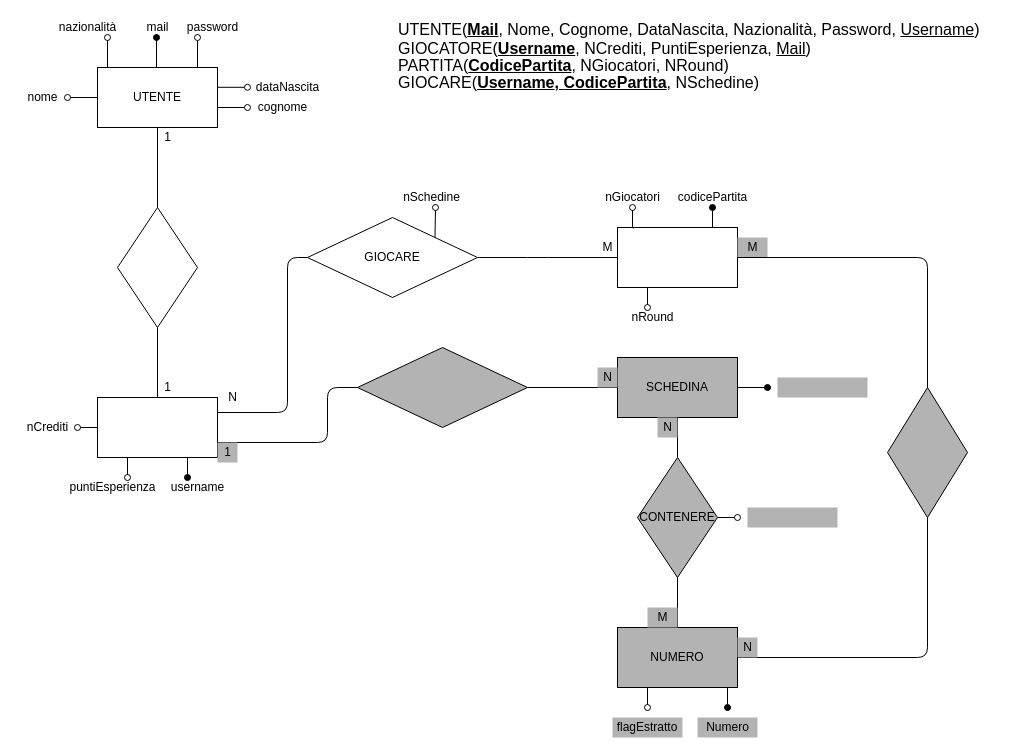
Image size: 1013x755. Some labels were removed from this diagram. The shapes that lost their labels are listed below. From the top down, each one's centre as x and y in pixels, then its label:
At point (157, 267): "ESSERE".
At point (677, 257): "PARTITA".
At point (442, 387): "POSSEDERE".
At point (822, 387): "codiceSchedina".
At point (157, 427): "GIOCATORE".
At point (927, 452): "GENERARE".
At point (792, 517): "flagAbbassato".
